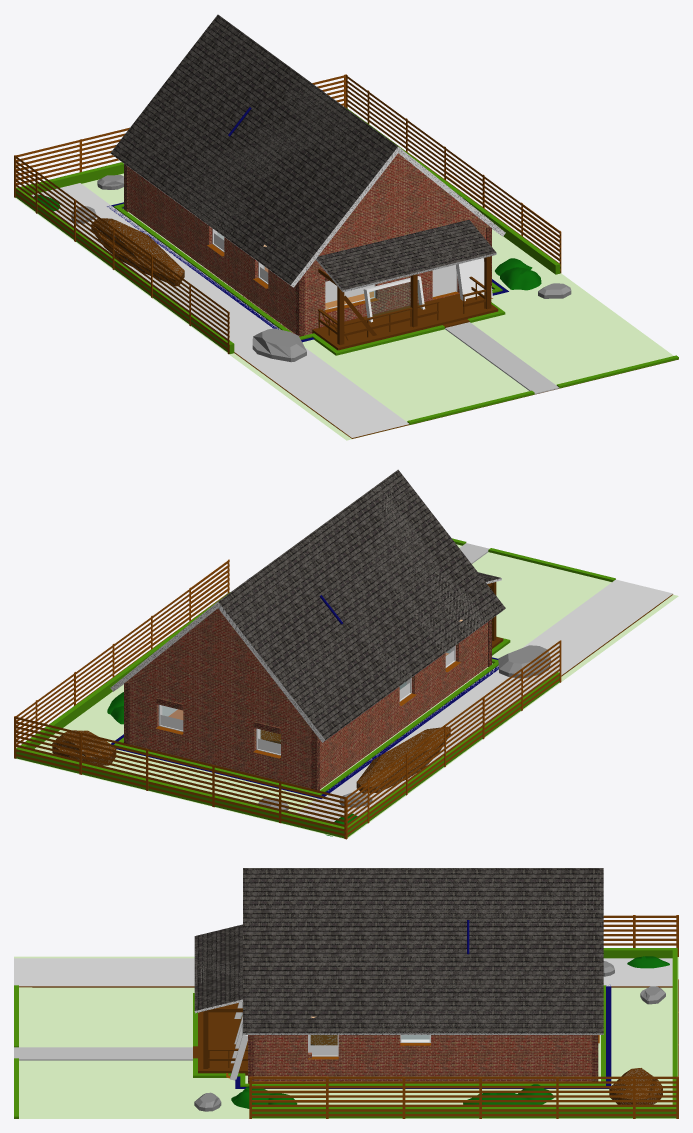
File: SmallWoodFrameHouse_01.dae
The picture shows the model from 3 angles, top to bottom: view 1: azimuth 30°, elevation 25°; view 2: azimuth 150°, elevation 25°; view 3: azimuth 270°, elevation 25°; orthographic projection.
Parts seen in each view (by area): view 1: Finishes_RoofDone (×2), ExcavationDone, Exterior_FinishesDone (×6), Brick_Finishes_Outer_WallsDone, DeckDone (×3), Excavation (×2), terrainSite, Brick_Finishes_Outer_Walls, Exterior_Finishes, group_26, group_59, Slab_Foundation (+3 smaller); view 2: Finishes_RoofDone (×2), Exterior_FinishesDone (×29), Brick_Finishes_Outer_WallsDone, Excavation (×3), ExcavationDone, terrainSite, Slab_Foundation, group_26, Exterior_Finishes; view 3: Finishes_RoofDone (×2), Exterior_FinishesDone (×11), ExcavationDone, terrainSite, Excavation (×2), Brick_Finishes_Outer_WallsDone, DeckDone (×3), Exterior_Finishes (×4), Brick_Finishes_Outer_Walls, group_32 (×3), Slab_Foundation, group_59 (+1 smaller).
Part boxes in pixels (<box>): Finishes_RoofDone (×2): <box>110,14,505,287</box>; ExcavationDone: <box>15,173,673,440</box>; Exterior_FinishesDone (×6): <box>15,108,678,437</box>; Brick_Finishes_Outer_WallsDone: <box>128,153,489,332</box>; DeckDone (×3): <box>312,219,496,350</box>; Excavation (×2): <box>86,181,672,439</box>; terrainSite: <box>16,174,671,439</box>; Brick_Finishes_Outer_Walls: <box>128,183,459,335</box>; Exterior_Finishes: <box>406,118,561,273</box>; group_26: <box>252,328,306,362</box>; group_59: <box>456,258,492,300</box>; Slab_Foundation: <box>107,202,508,342</box>; Finishes_RoofDone (×2): <box>110,469,505,742</box>; Exterior_FinishesDone (×29): <box>15,548,672,838</box>; Brick_Finishes_Outer_WallsDone: <box>126,608,487,788</box>; Excavation (×3): <box>35,545,678,832</box>; ExcavationDone: <box>16,544,675,839</box>; terrainSite: <box>19,545,636,837</box>; Slab_Foundation: <box>111,657,498,798</box>; group_26: <box>498,645,550,678</box>; Exterior_Finishes: <box>74,559,229,705</box>; Finishes_RoofDone (×2): <box>243,868,603,1034</box>; Exterior_FinishesDone (×11): <box>14,948,677,1118</box>; ExcavationDone: <box>14,956,678,1118</box>; terrainSite: <box>19,957,678,1118</box>; Excavation (×2): <box>14,956,678,1118</box>; Brick_Finishes_Outer_WallsDone: <box>254,1035,591,1081</box>; DeckDone (×3): <box>193,924,247,1075</box>; Exterior_Finishes (×4): <box>19,986,672,1118</box>; Brick_Finishes_Outer_Walls: <box>254,1052,591,1081</box>; group_32 (×3): <box>231,956,669,1108</box>; Slab_Foundation: <box>235,985,611,1088</box>; group_59: <box>230,1022,247,1080</box>.
Size of the model in its own units: 591 by 1024 by 312.
